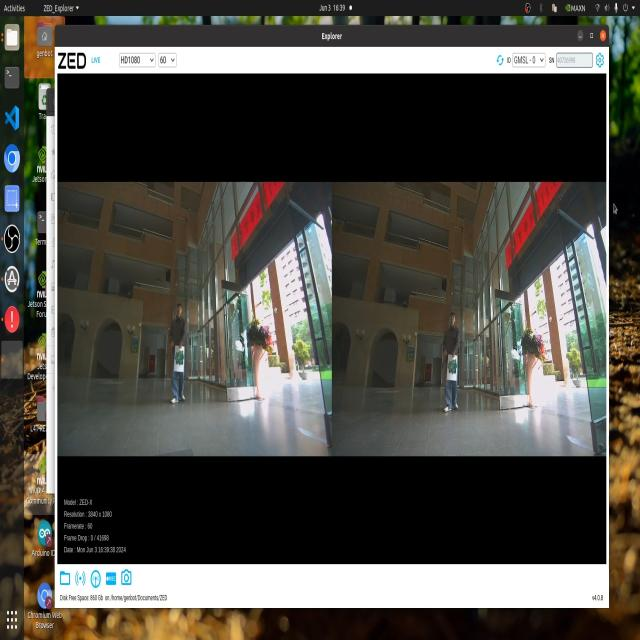green: (175, 346, 183, 377), (447, 359, 458, 379)
